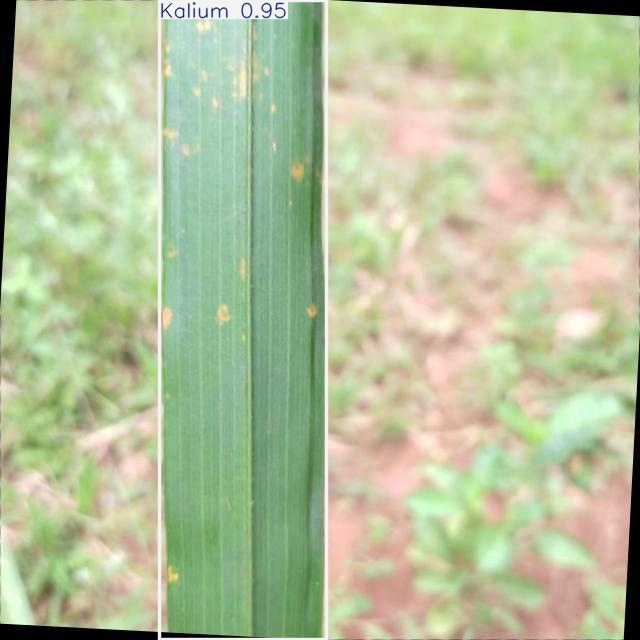Kalium: (160, 0, 327, 639)
